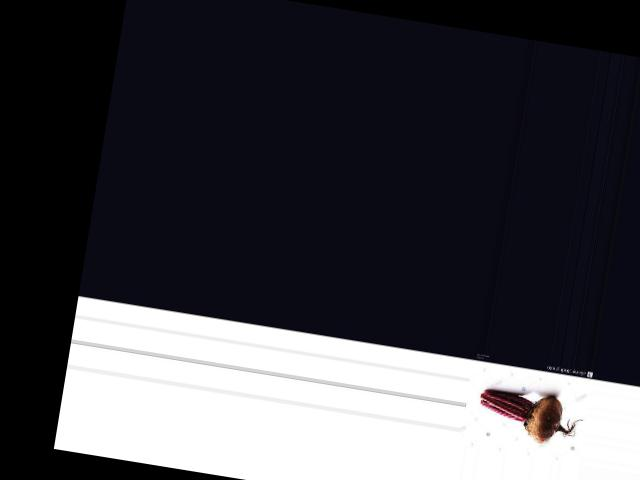beet: (474, 385, 585, 448)
